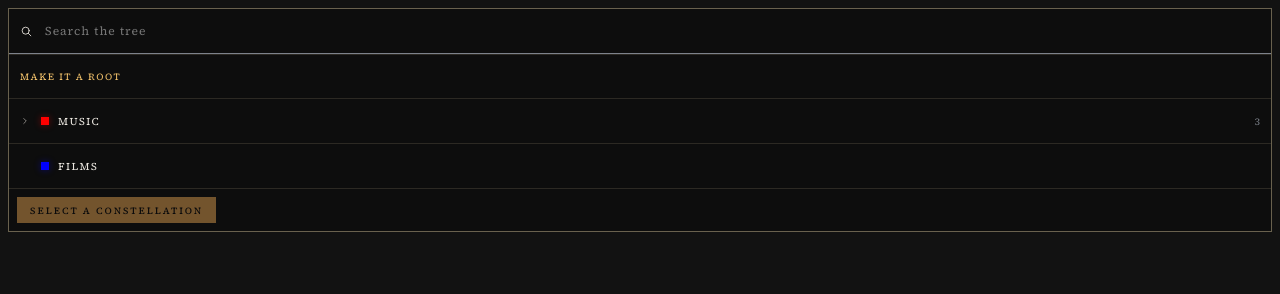
it: ConstellationPicker › shows the lead row only while the search is empty
Click the button "Make it a root".
click(71, 76)  # box x1=9 y1=54 x2=1271 y2=98
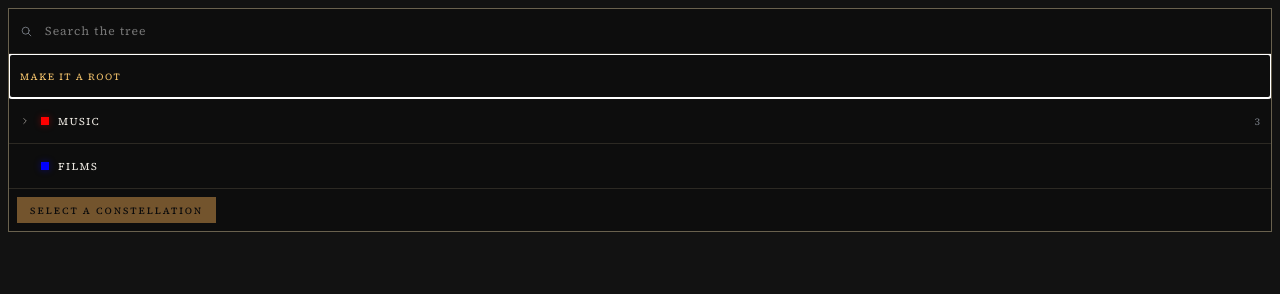
Type "m" into the field labelled "Search the tree".
click(654, 31); type("m")  # box x1=37 y1=9 x2=1271 y2=53
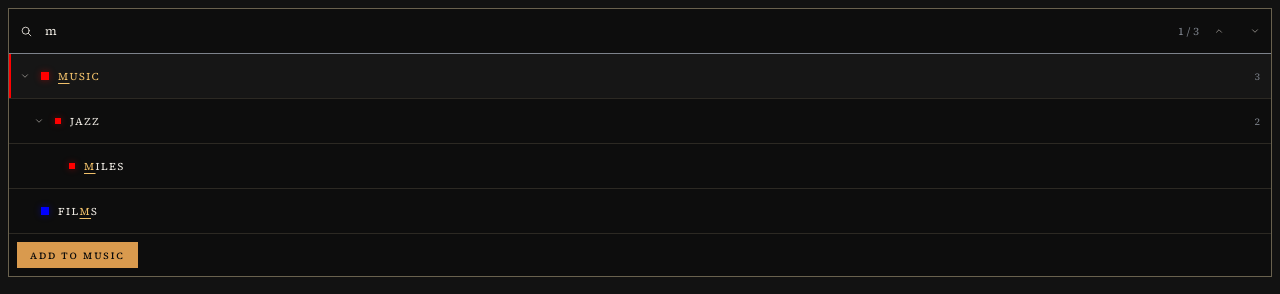
Check: the button "Make it a root" is gone
